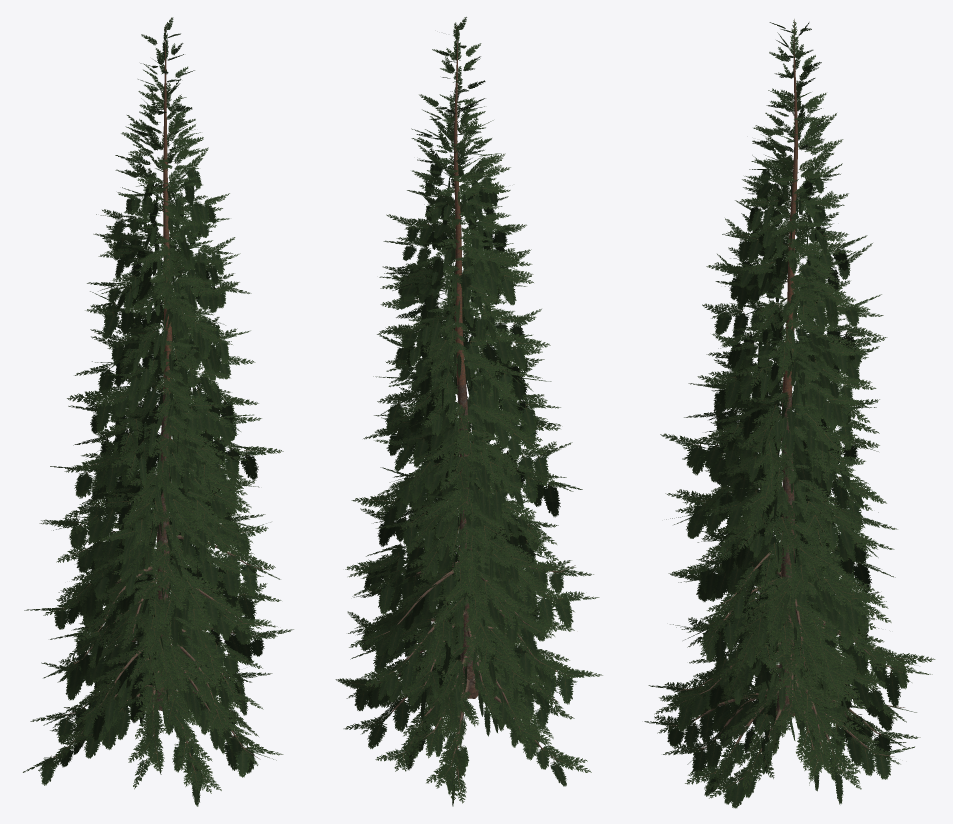
The model's file is spruce_a_LOD0.glb.
3 renders of one model, left to right at view 1: azimuth 30°, elevation 25°; view 2: azimuth 150°, elevation 25°; view 3: azimuth 270°, elevation 25°, orthographic. The views are drawn at different scales.
Visible parts, largest first — view 1: Spruce_A_LOD0_Foliage, Spruce_A_LOD0_Bark; view 2: Spruce_A_LOD0_Foliage, Spruce_A_LOD0_Bark; view 3: Spruce_A_LOD0_Foliage, Spruce_A_LOD0_Bark.
Part boxes in pixels (x1,y1,x2,y2): Spruce_A_LOD0_Foliage: (23,17,293,806); Spruce_A_LOD0_Bark: (52,25,269,777); Spruce_A_LOD0_Foliage: (335,17,602,806); Spruce_A_LOD0_Bark: (358,26,575,783); Spruce_A_LOD0_Foliage: (644,19,935,808); Spruce_A_LOD0_Bark: (669,20,904,781).
Size of the model in its own units: 10.76 by 28.96 by 10.29.
Materials: 2 (2 with a texture image).
